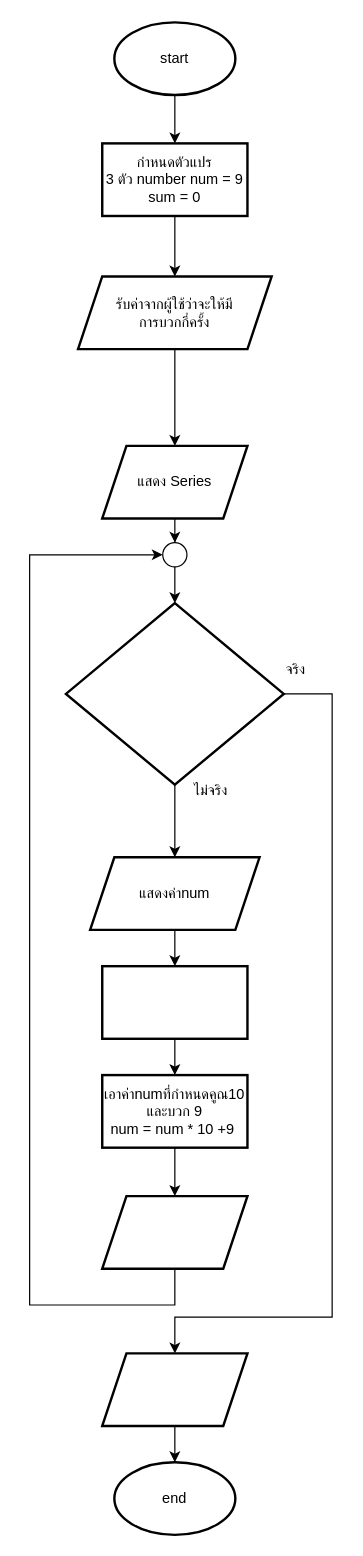
This 363x1556 diagram has some shape labels left out. The shapes that lost their labels are listed below. From the top down, each one's centre as x and y in pixels, then its label:
point 174,693: วนรอบครบตามที่รับค่ามาไหม
point 174,1001: สูตร เอาsumบวกกับค่าnumที่กำหนด
point 174,1231: แสดง " + "
point 174,1389: แสดงค่าของตัวเลขทั้งหมดที่บวกกัน
